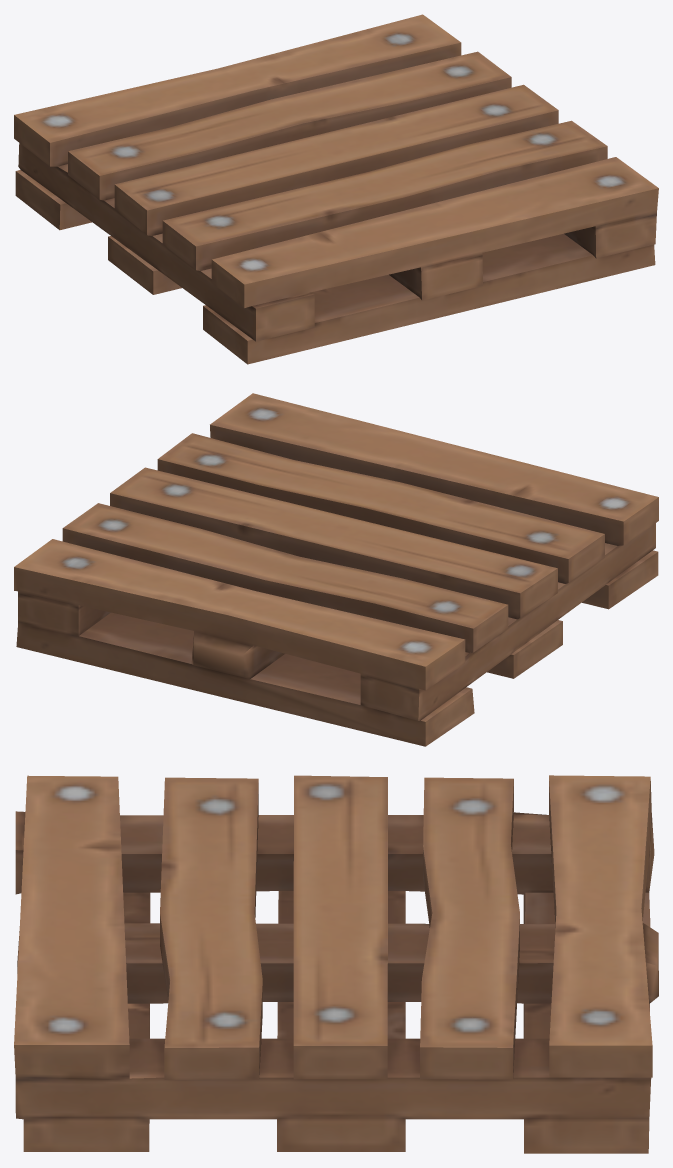
File: Prfb_WoodenPallet.fbx
3 renders of one model, top to bottom at view 1: azimuth 30°, elevation 25°; view 2: azimuth 150°, elevation 25°; view 3: azimuth 270°, elevation 25°, orthographic. The views are drawn at different scales.
Visible parts, largest first — view 1: Mat_WoodPallet_01_01; view 2: Mat_WoodPallet_01_01; view 3: Mat_WoodPallet_01_01.
Boxes of the visible parts, left/top/right/bottom form: Mat_WoodPallet_01_01: left=14, top=14, right=658, bottom=364; Mat_WoodPallet_01_01: left=14, top=393, right=658, bottom=746; Mat_WoodPallet_01_01: left=14, top=775, right=658, bottom=1153.
Size of the model in its own units: 1.86 by 0.3488 by 1.85.
1 material, 1 textured.
